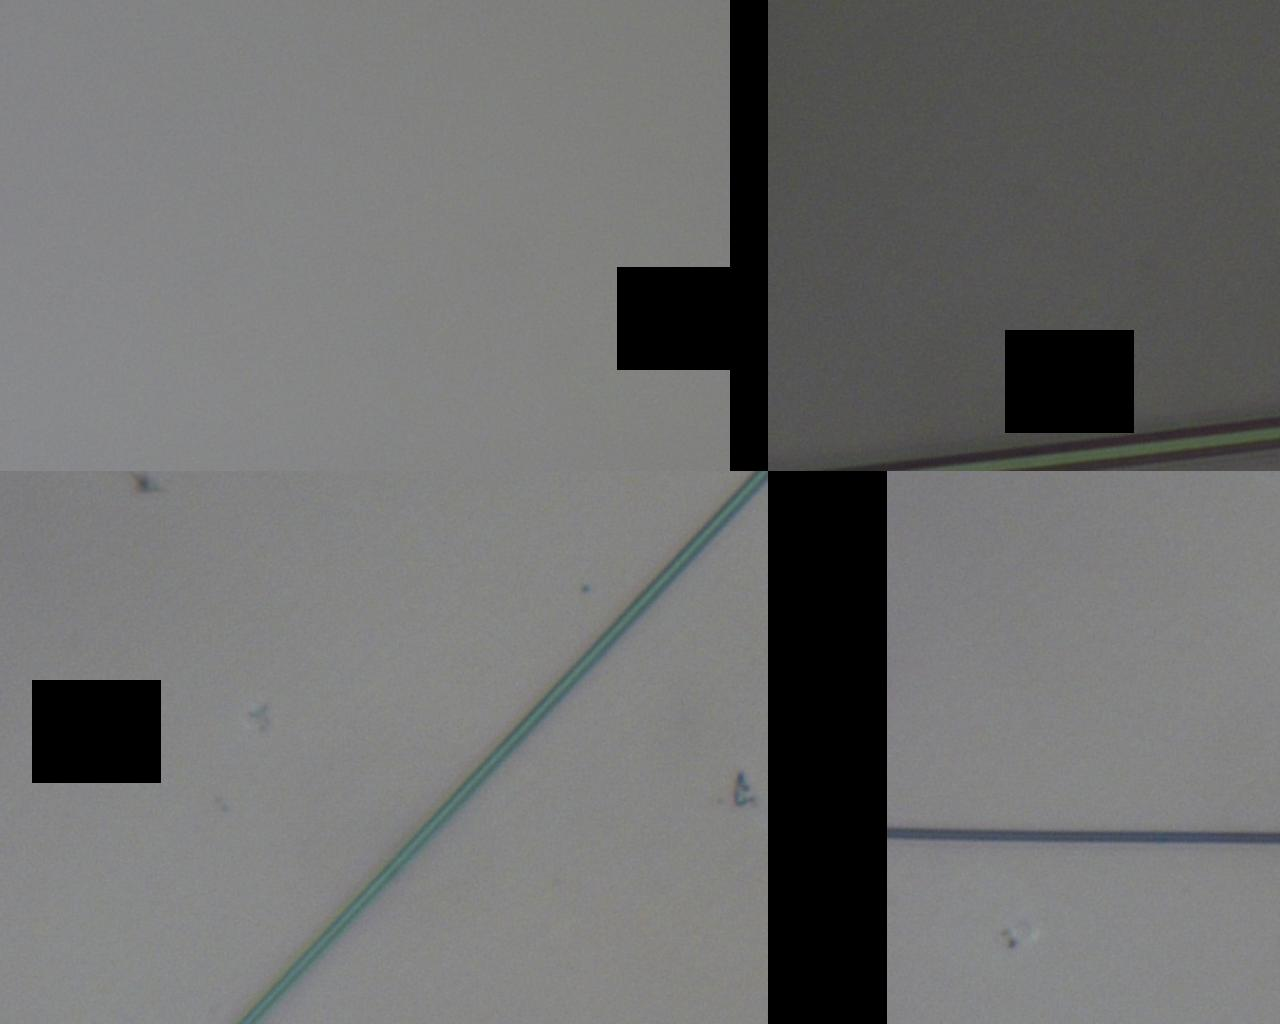fiber: (1076, 471, 1280, 1024), (153, 0, 360, 471), (755, 13, 1280, 183)
